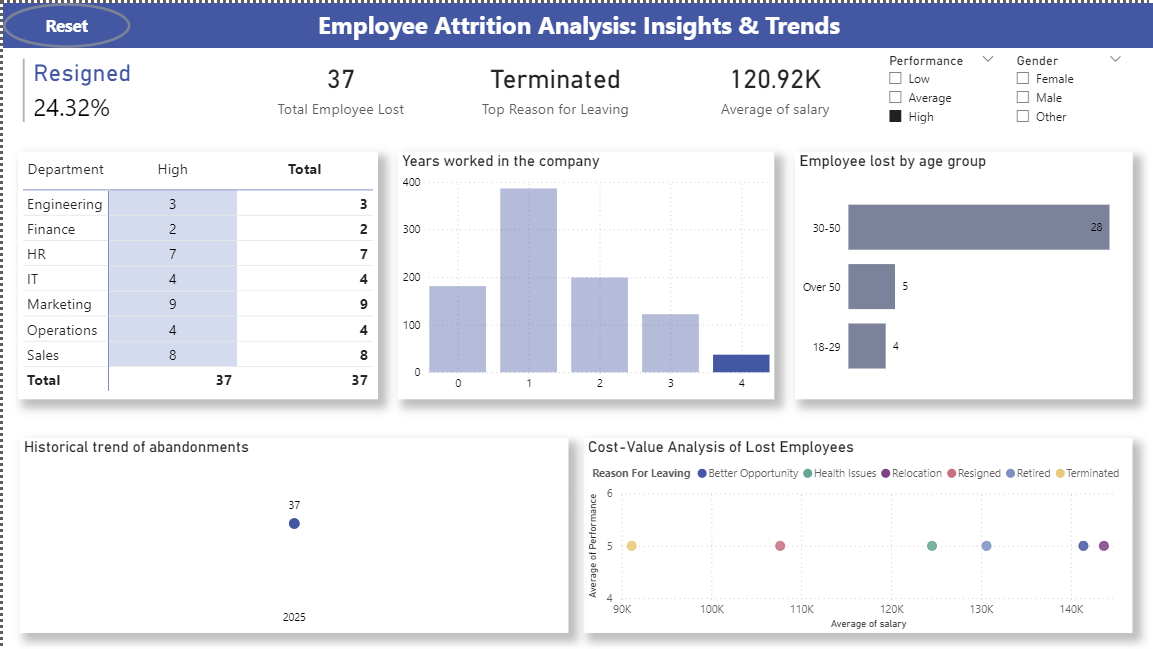

The dashboard page shown, as its layout file describes it:
{"tool":"powerbi","page":{"name":"Page 1","canvas":[1280,720],"ordinal":0},"visuals":[{"type":"card","fields":{"Values":["CountNonNull(projects v_employee_attrition.EmployeeID)"]},"box":[273.3,50,203.3,85],"z":0},{"type":"multiRowCard","fields":{"Values":["projects v_employee_attrition.MAX Reason Percentage","projects v_employee_attrition.Top Reason Name"]},"box":[16.7,56.7,250,88.3],"z":1000},{"type":"slicer","fields":{"Values":["projects v_employee_attrition.performance_label"]},"box":[971.7,50,141.7,95],"z":2000},{"type":"slicer","fields":{"Values":["projects v_employee_attrition.Gender"]},"box":[1113.3,50,141.7,95],"z":3000},{"type":"pivotTable","title":"Where are we losing talent?","fields":{"Rows":["projects v_employee_attrition.Department"],"Columns":["projects v_employee_attrition.performance_label"],"Values":["Count(projects v_employee_attrition.EmployeeID)"]},"box":[16.7,165,400,275],"z":4000},{"type":"scatterChart","title":"Cost-Value Analysis of Lost Employees","fields":{"X":["Avg(projects v_employee_attrition.salary)"],"Series":["projects v_employee_attrition.ReasonForLeaving"],"Y":["Avg(projects v_employee_attrition.PerformanceRating)"]},"box":[645,483.3,610,216.7],"z":5000},{"type":"areaChart","title":"Historical trend of abandonments","fields":{"Category":["projects v_employee_attrition.year_of_leaving","projects v_employee_attrition.month_of_leaving"],"Y":["CountNonNull(projects v_employee_attrition.EmployeeID)"]},"box":[18.3,483.3,610,216.7],"z":6000},{"type":"clusteredBarChart","title":"Employee lost by age group","fields":{"Category":["projects v_employee_attrition.age_group"],"Y":["CountNonNull(projects v_employee_attrition.EmployeeID)"]},"box":[880,165,375,275],"z":7000},{"type":"clusteredColumnChart","title":"Years worked in the company","fields":{"Y":["CountNonNull(projects v_employee_attrition.EmployeeID)"],"Category":["projects v_employee_attrition.CompanySeniority"]},"box":[438.3,165,418.3,275],"z":8000},{"type":"textbox","box":[0,0,1280,50],"z":9000},{"type":"actionButton","box":[0,0,141.7,50],"z":10000},{"type":"card","fields":{"Values":["Avg(projects v_employee_attrition.salary)"]},"box":[750,50,215,85],"z":11000},{"type":"card","fields":{"Values":["projects v_employee_attrition.Top Reason Name"]},"box":[476.7,50,273.3,85],"z":12000}]}

Visuals, with their boxes in screenshot pixels (x1, y1, x2, y2), scaled from the page's 1280x720 canvas onto the 1153x649 screenshot:
card - CountNonNull(projects v_employee_attrition.EmployeeID): <bbox>246, 45, 429, 122</bbox>
multiRowCard - projects v_employee_attrition.MAX Reason Percentage x projects v_employee_attrition.Top Reason Name: <bbox>15, 51, 240, 131</bbox>
slicer - projects v_employee_attrition.performance_label: <bbox>875, 45, 1003, 131</bbox>
slicer - projects v_employee_attrition.Gender: <bbox>1003, 45, 1130, 131</bbox>
"Where are we losing talent?" pivotTable: <bbox>15, 149, 375, 397</bbox>
"Cost-Value Analysis of Lost Employees" scatterChart: <bbox>581, 436, 1130, 631</bbox>
"Historical trend of abandonments" areaChart: <bbox>16, 436, 566, 631</bbox>
"Employee lost by age group" clusteredBarChart: <bbox>793, 149, 1130, 397</bbox>
"Years worked in the company" clusteredColumnChart: <bbox>395, 149, 772, 397</bbox>
textbox: <bbox>0, 0, 1152, 45</bbox>
actionButton: <bbox>0, 0, 128, 45</bbox>
card - Avg(projects v_employee_attrition.salary): <bbox>676, 45, 869, 122</bbox>
card - projects v_employee_attrition.Top Reason Name: <bbox>429, 45, 676, 122</bbox>
